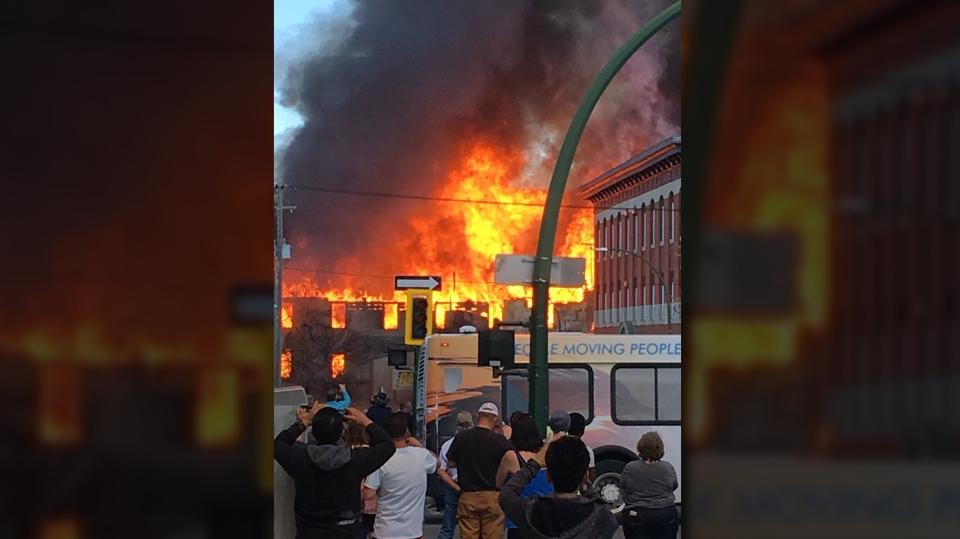Fire: (285, 108, 610, 378)
